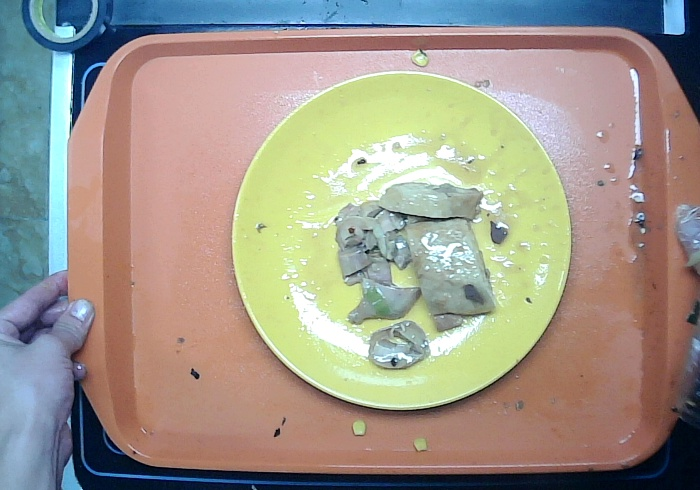HZYJPL-Huang_Se_Yuan_Pan: (230, 69, 575, 412)
